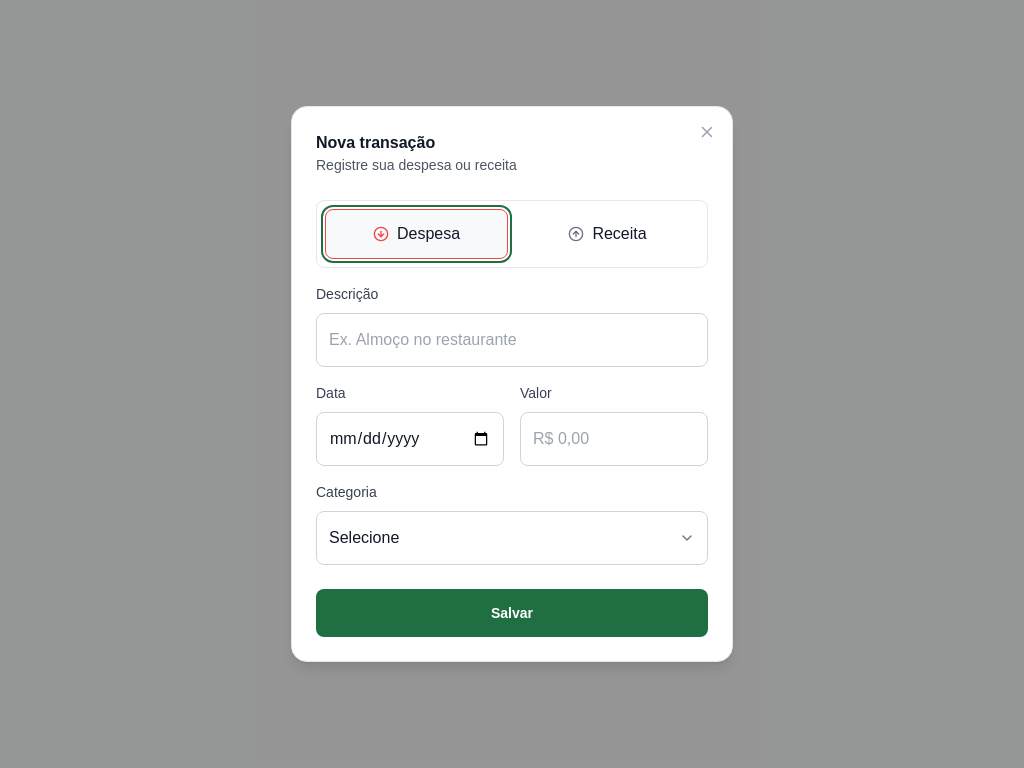
Scenario: UpSertTransactionDialog › mostra os erros de validação ao submeter vazio
The image size is (1024, 768).
Click the button "Salvar": coordinates (512, 613) [316, 589, 708, 637]
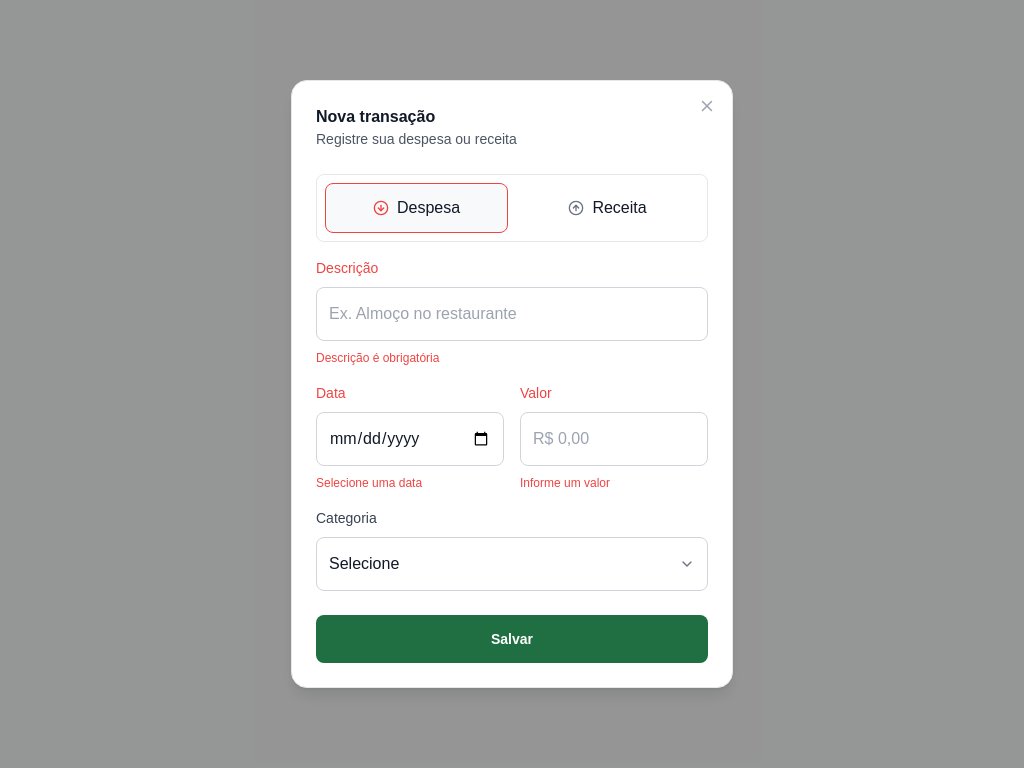
expect the text "Descrição é obrigatória" is shown: met, box [316, 351, 439, 365]
expect the text "Informe um valor" is shown: met, box [520, 476, 610, 490]
expect the text "Selecione uma data" is shown: met, box [316, 476, 422, 490]
